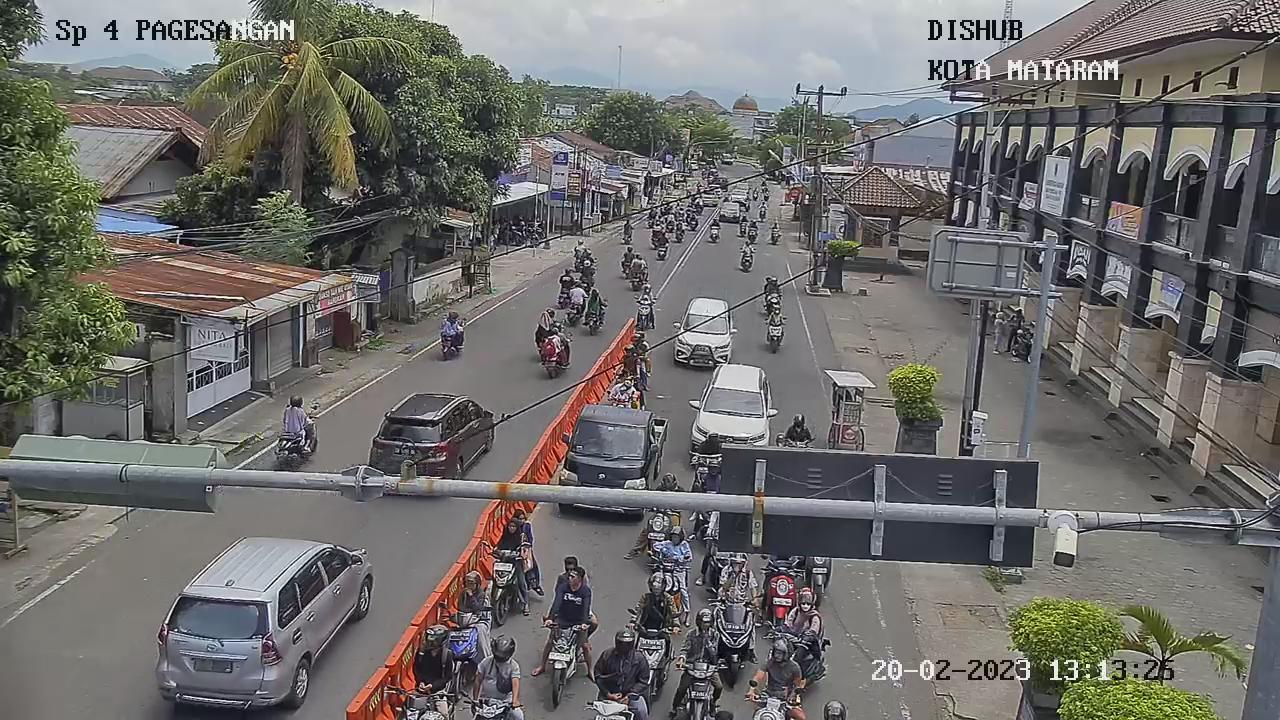car: (154, 538, 377, 709), (368, 392, 499, 479), (693, 365, 778, 447), (671, 294, 738, 368), (717, 200, 742, 225)
motorbike: (706, 589, 762, 693), (534, 609, 592, 705), (433, 598, 492, 683), (481, 540, 534, 625), (626, 619, 680, 701), (756, 564, 806, 633), (636, 500, 675, 572), (800, 550, 834, 610), (764, 318, 785, 354), (762, 290, 783, 317), (738, 246, 757, 274), (707, 225, 723, 244), (768, 227, 782, 246), (756, 206, 769, 225), (746, 228, 760, 245), (736, 221, 749, 238)
person: (592, 627, 650, 703), (405, 619, 456, 691), (472, 630, 521, 704), (625, 570, 682, 628), (753, 631, 801, 697), (548, 557, 591, 626), (677, 600, 719, 669), (715, 549, 760, 611), (779, 583, 824, 636), (652, 524, 692, 568), (453, 570, 489, 618), (780, 409, 816, 454), (605, 367, 642, 407), (615, 340, 645, 380), (494, 514, 523, 555), (283, 395, 310, 435), (626, 329, 652, 366), (437, 308, 461, 344), (544, 321, 569, 349), (576, 258, 598, 285), (535, 307, 554, 338), (557, 263, 576, 294), (760, 274, 781, 301), (626, 252, 646, 278), (766, 304, 788, 327), (588, 287, 606, 315), (621, 241, 638, 270), (637, 280, 656, 303), (569, 280, 586, 302), (656, 230, 670, 249), (740, 240, 756, 256), (622, 218, 634, 233), (748, 217, 758, 231), (709, 216, 719, 228), (770, 221, 780, 233), (739, 213, 748, 225)
truck: (550, 402, 672, 512)
